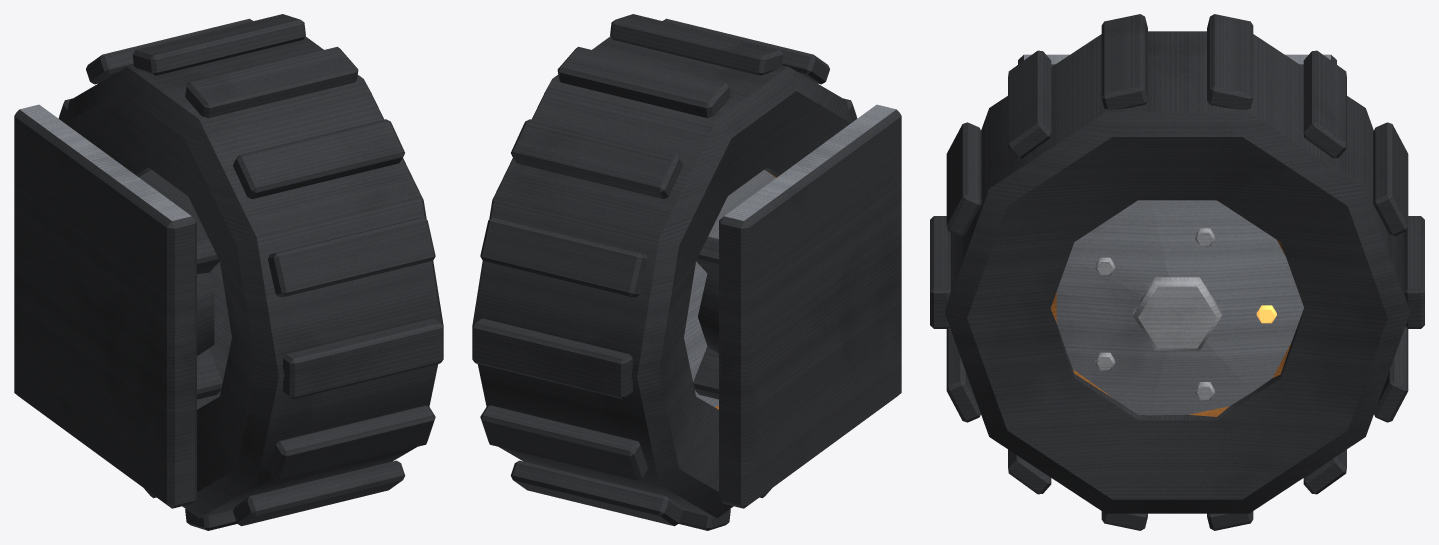
File: R4M_WheelM_Side_Offroad_LOD1.glb
3 views of the same model, side by side, from view 1: azimuth 30°, elevation 25°; view 2: azimuth 150°, elevation 25°; view 3: azimuth 270°, elevation 25° (orthographic).
Visible parts, largest first — view 1: R4M_WheelM_Side_Offroad_LOD1; view 2: R4M_WheelM_Side_Offroad_LOD1; view 3: R4M_WheelM_Side_Offroad_LOD1.
Part boxes in pixels (x1,y1,x2,y2): R4M_WheelM_Side_Offroad_LOD1: (14,14,443,530); R4M_WheelM_Side_Offroad_LOD1: (472,14,901,530); R4M_WheelM_Side_Offroad_LOD1: (930,14,1424,530).
Size of the model in its own units: 0.452 by 0.7695 by 0.776.
Materials: 5 (4 with a texture image).
